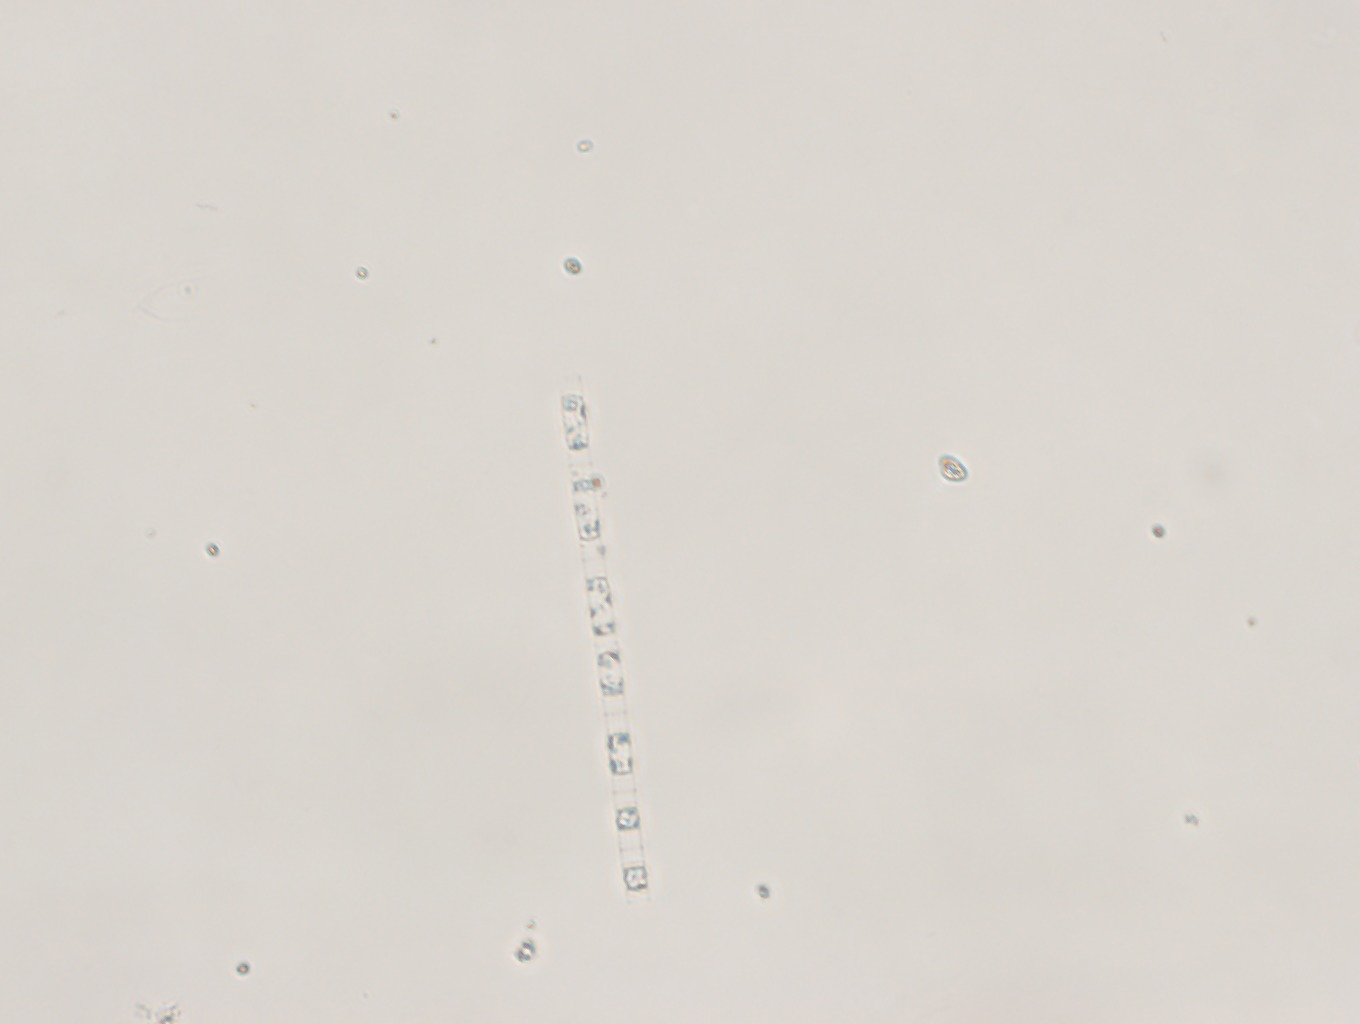skeletonema: (552, 379, 648, 900)
